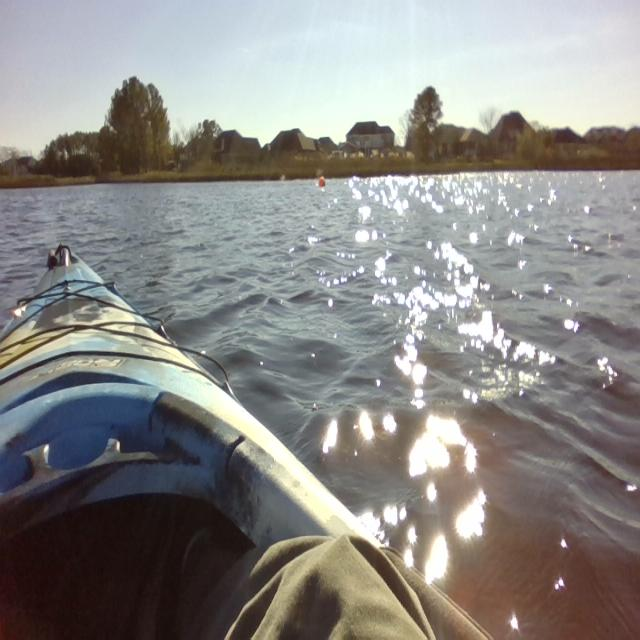Buoy: (316, 170, 328, 192)
